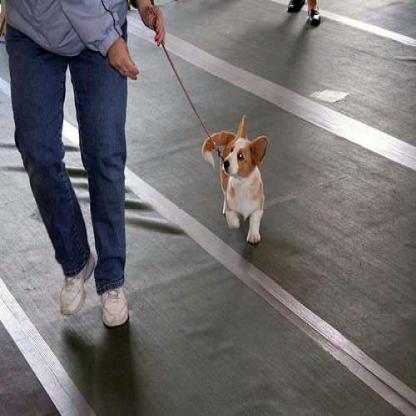Cardigan: (200, 113, 268, 244)
